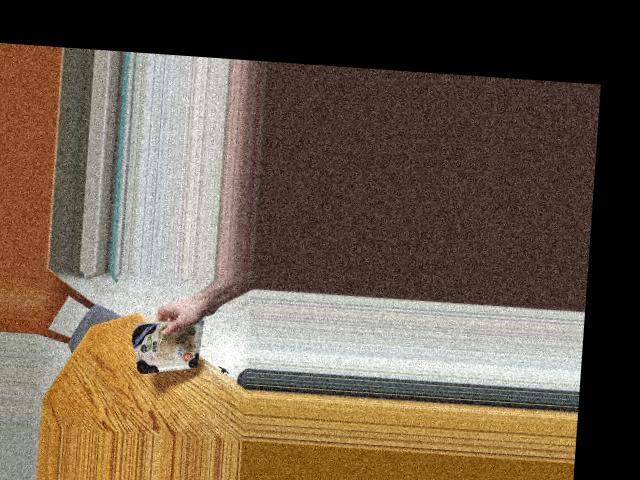cheese: (126, 317, 218, 376)
